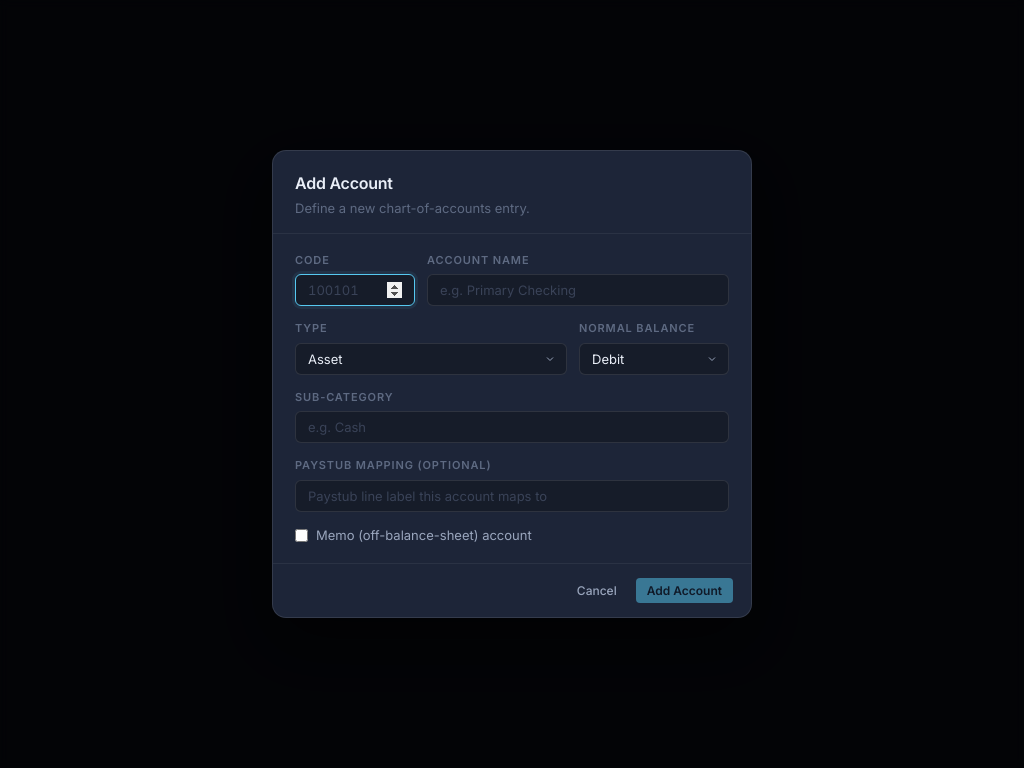
Test: AccountModal › defaults normal balance from the selected type
Expected: the dropdown showing "Debit" below "Normal Balance" is shown, [579,342,729,374]
Select "Income" in the dropdown showing "Asset" below "Type" at (431, 358), box [295,342,567,374]
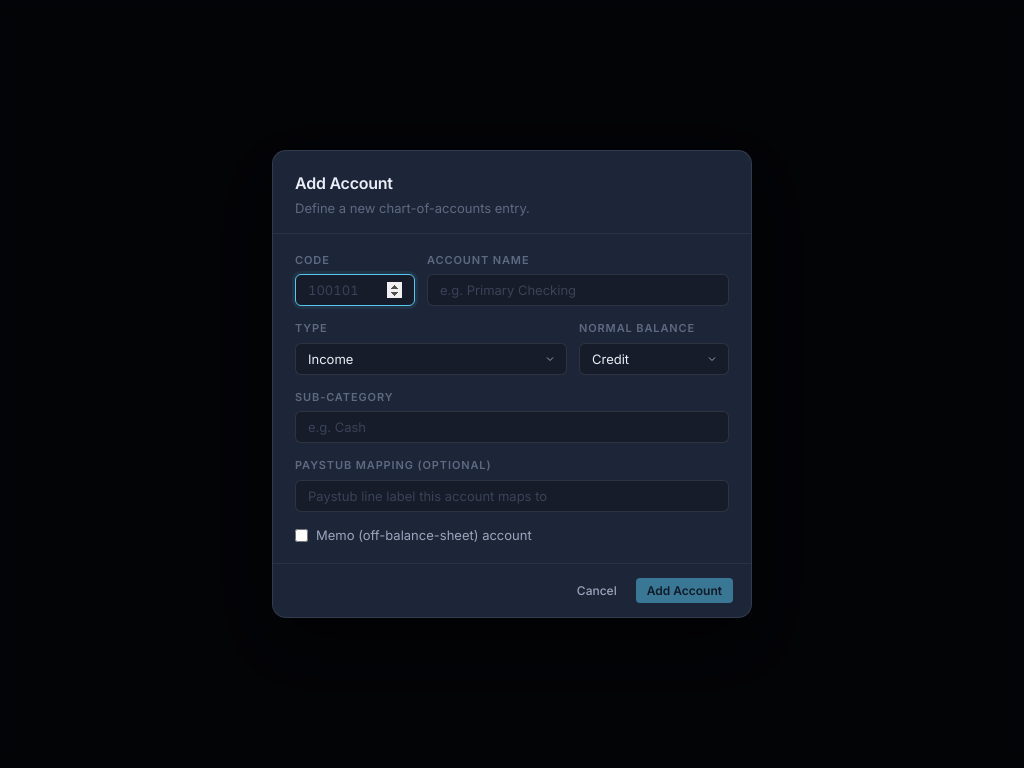
Result: the dropdown showing "Credit" below "Normal Balance" is shown at [579,342,729,374]
